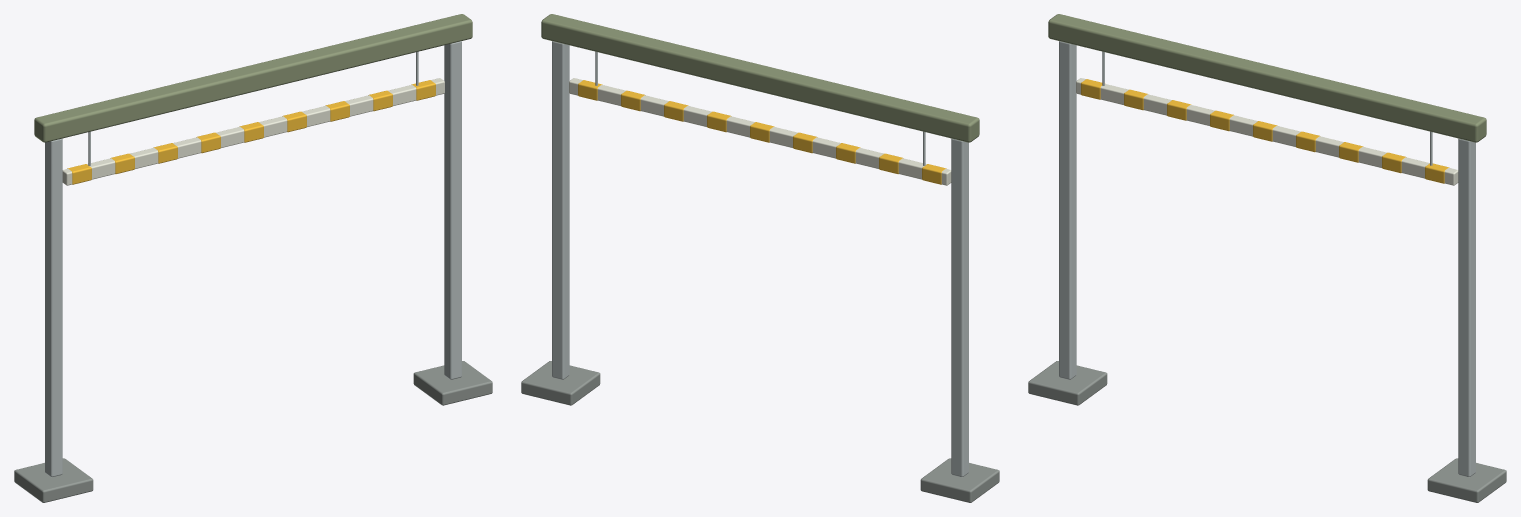
File: mountain-border-checkpoint-mountain-border-checkpoint--7441660f__30320.glb
The picture shows the model from 3 angles, left to right: view 1: azimuth 30°, elevation 25°; view 2: azimuth 150°, elevation 25°; view 3: azimuth 330°, elevation 25°; orthographic projection.
Visible parts, largest first — view 1: mountain-border-checkpoint-height-restriction-beam; view 2: mountain-border-checkpoint-height-restriction-beam; view 3: mountain-border-checkpoint-height-restriction-beam.
Part boxes in pixels (box(x1,y1,x2,y2)): mountain-border-checkpoint-height-restriction-beam: box(14, 14, 492, 502); mountain-border-checkpoint-height-restriction-beam: box(521, 14, 999, 502); mountain-border-checkpoint-height-restriction-beam: box(1028, 14, 1506, 502).
Bounding box in the file's own units: 4.4 × 3.45 × 0.5001.
